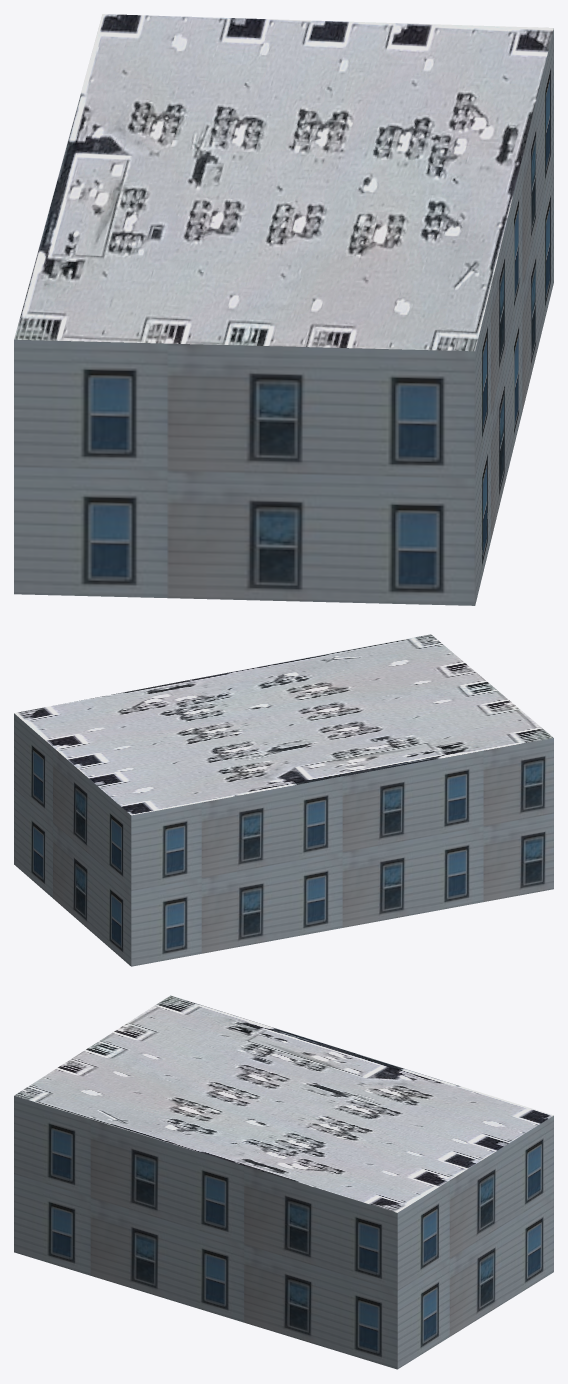
Rendered from ResTex__736.fbx.
3 views of the same model, one above another, from view 1: azimuth 30°, elevation 25°; view 2: azimuth 150°, elevation 25°; view 3: azimuth 270°, elevation 25° (orthographic). The views are drawn at different scales.
Parts seen in each view (by area): view 1: CityEngineMaterial_2_m, CityEngineMaterial_18_m; view 2: CityEngineMaterial_18_m, CityEngineMaterial_2_m; view 3: CityEngineMaterial_18_m, CityEngineMaterial_2_m.
Boxes of the visible parts, <box> form: CityEngineMaterial_2_m: <box>14,14,553,351</box>; CityEngineMaterial_18_m: <box>14,29,553,605</box>; CityEngineMaterial_18_m: <box>14,713,553,966</box>; CityEngineMaterial_2_m: <box>14,634,553,815</box>; CityEngineMaterial_18_m: <box>14,1096,553,1369</box>; CityEngineMaterial_2_m: <box>14,995,553,1212</box>.
Size of the model in its own units: 17.87 by 6 by 18.74.
Materials: 2 (2 with a texture image).
